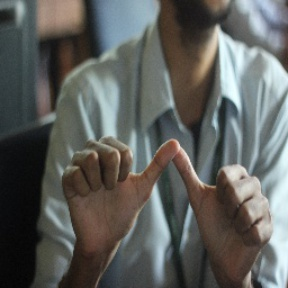A: (68, 131, 268, 253)
